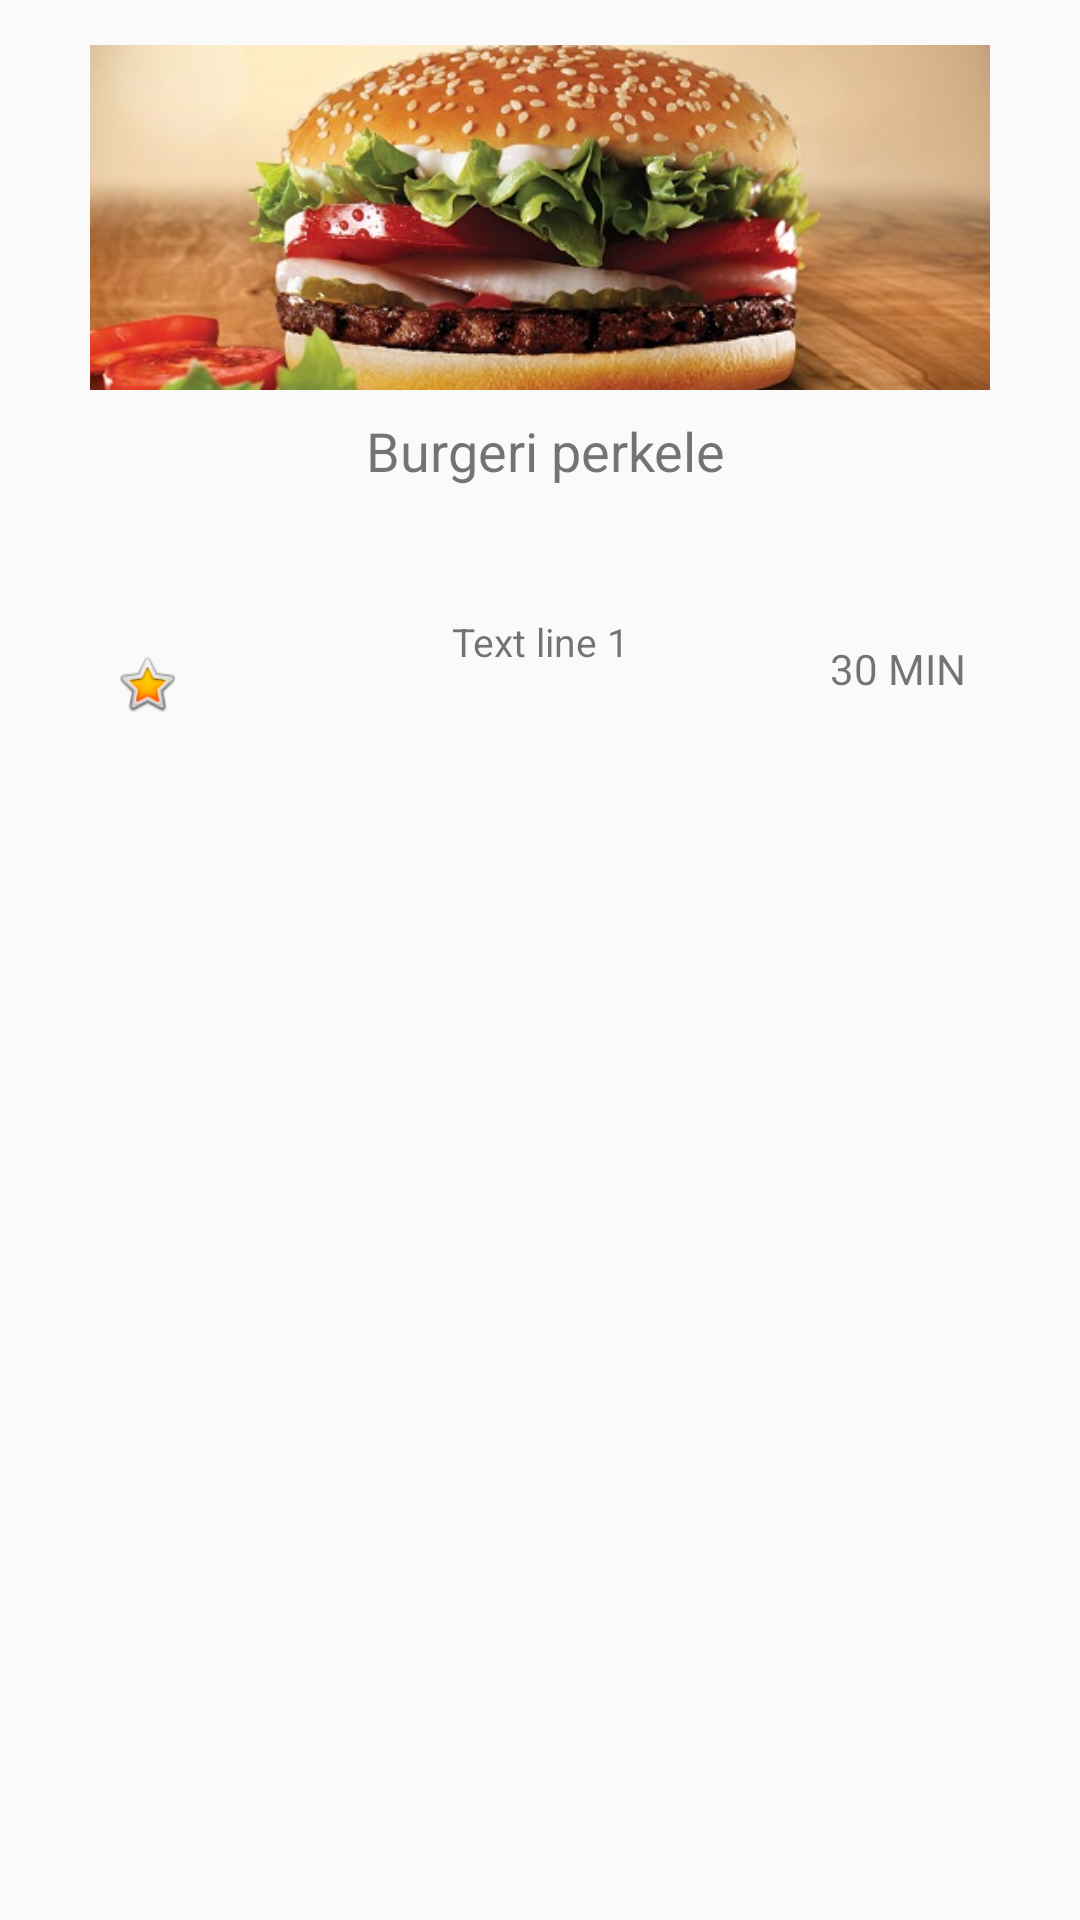

Screen size 1080w x 1920h. Icon name, then its box in pixels as (x1,y1,x2,y2):
star on: (120,658,175,711)
